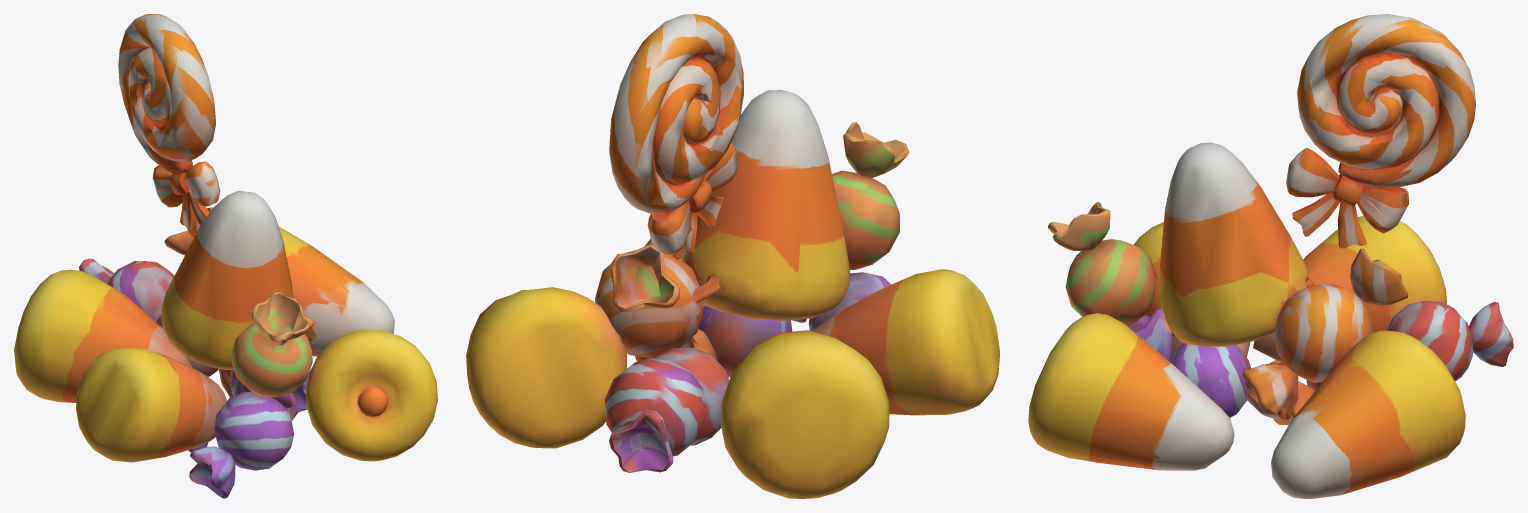
File: H7_CandyCornPile_LOD1.fbx
3 views of the same model, side by side, from view 1: azimuth 30°, elevation 25°; view 2: azimuth 150°, elevation 25°; view 3: azimuth 270°, elevation 25° (orthographic). The views are drawn at different scales.
Visible parts, largest first — view 1: H7_CandyCornPile_LOD1; view 2: H7_CandyCornPile_LOD1; view 3: H7_CandyCornPile_LOD1.
Boxes of the visible parts, <box> form: H7_CandyCornPile_LOD1: <box>14,14,437,498</box>; H7_CandyCornPile_LOD1: <box>466,14,999,498</box>; H7_CandyCornPile_LOD1: <box>1028,14,1513,498</box>.
Size of the model in its own units: 0.3165 by 0.3199 by 0.3374.
1 material, 1 textured.
